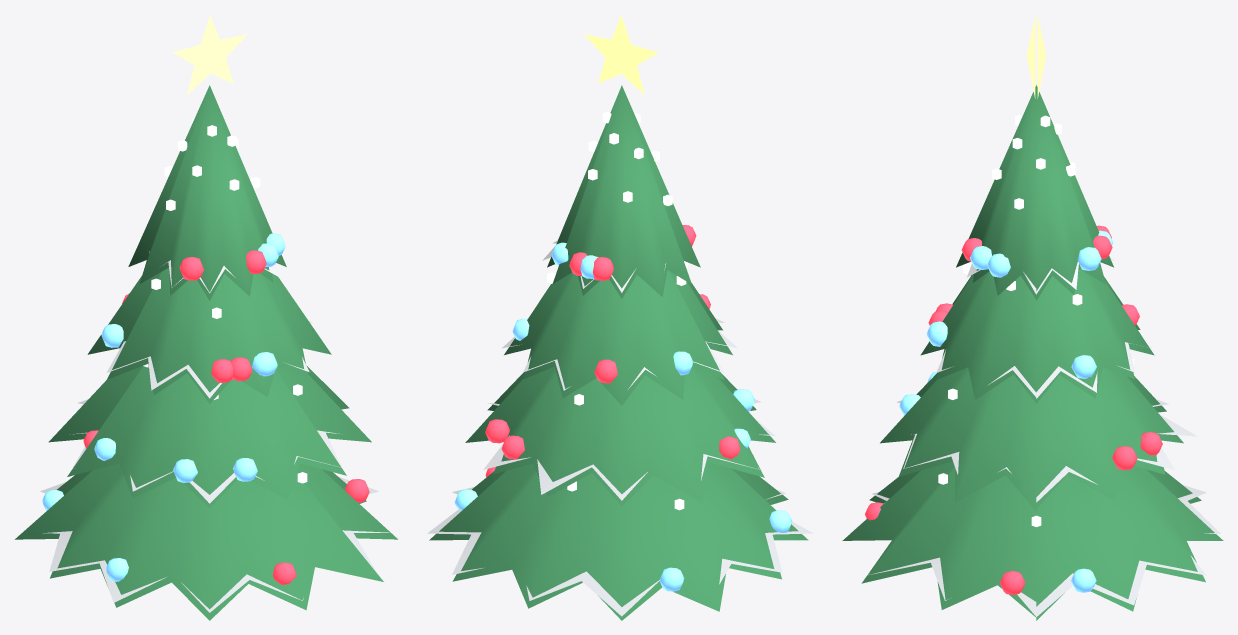
Rendered from tree.glb.
The picture shows the model from 3 angles, left to right: view 1: azimuth 30°, elevation 25°; view 2: azimuth 150°, elevation 25°; view 3: azimuth 270°, elevation 25°; orthographic projection.
Parts seen in each view (by area): view 1: tree; view 2: tree; view 3: tree.
Boxes of the visible parts, x1=… form: tree: x1=15, y1=15, x2=397, y2=620; tree: x1=427, y1=15, x2=813, y2=620; tree: x1=842, y1=15, x2=1223, y2=620.
Size of the model in its own units: 7.11 by 11.65 by 7.09.
